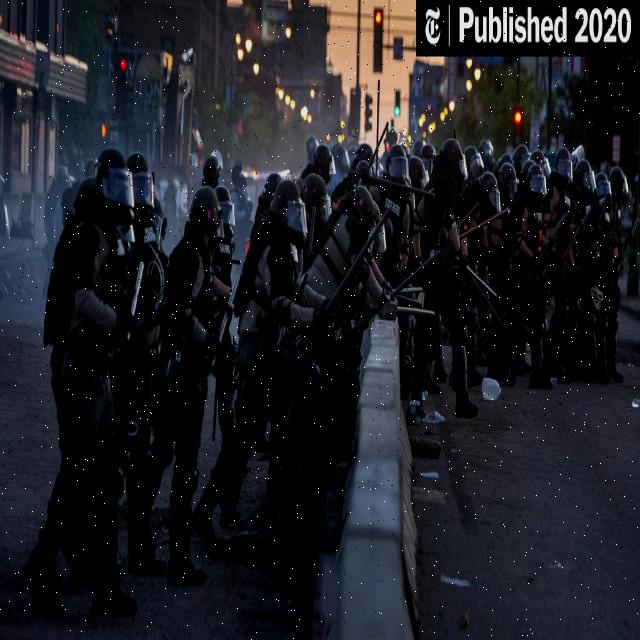police: (22, 130, 146, 632), (321, 136, 491, 424), (200, 172, 325, 543), (130, 172, 238, 590), (496, 146, 635, 380)
